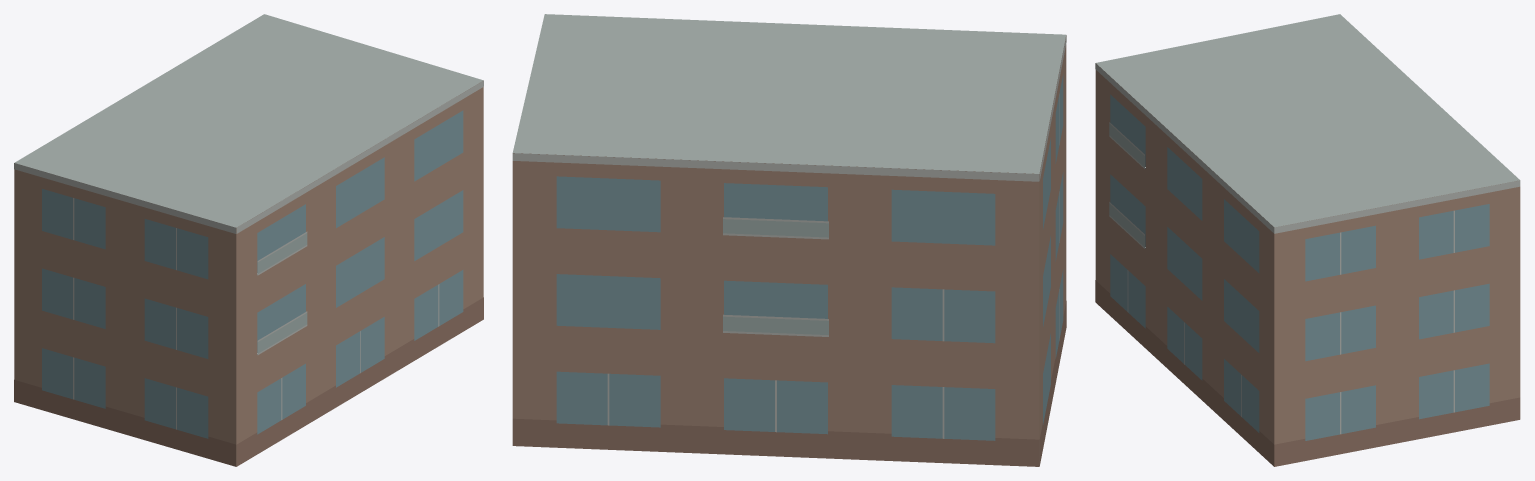
Rendered from survey-upis-32704800.glb.
The picture shows the model from 3 angles, left to right: view 1: azimuth 30°, elevation 25°; view 2: azimuth 150°, elevation 25°; view 3: azimuth 270°, elevation 25°; orthographic projection. The views are drawn at different scales.
Visible parts, largest first — view 1: survey-upis-32704800.tmp; view 2: survey-upis-32704800.tmp; view 3: survey-upis-32704800.tmp.
Boxes of the visible parts, <box> form: survey-upis-32704800.tmp: <box>14,14,483,466</box>; survey-upis-32704800.tmp: <box>512,14,1066,466</box>; survey-upis-32704800.tmp: <box>1095,14,1520,466</box>.
Size of the model in its own units: 17.5 by 9.15 by 14.72.
